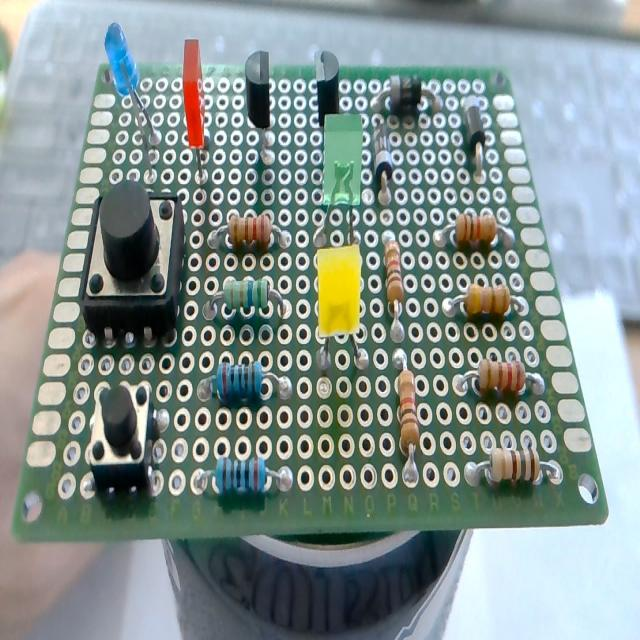diode: (455, 89, 489, 179), (368, 121, 398, 219), (374, 76, 443, 113)
led: (99, 16, 169, 183), (310, 248, 374, 384), (175, 29, 221, 192), (316, 116, 368, 248)
resistor: (190, 446, 286, 507), (384, 340, 424, 468), (466, 438, 556, 494), (449, 277, 531, 335), (209, 273, 293, 329), (461, 352, 543, 404), (194, 362, 294, 401), (212, 204, 286, 252), (378, 228, 410, 332), (439, 206, 511, 252)
switch: (81, 172, 187, 348), (86, 379, 163, 502)
transistor: (240, 51, 284, 160)
